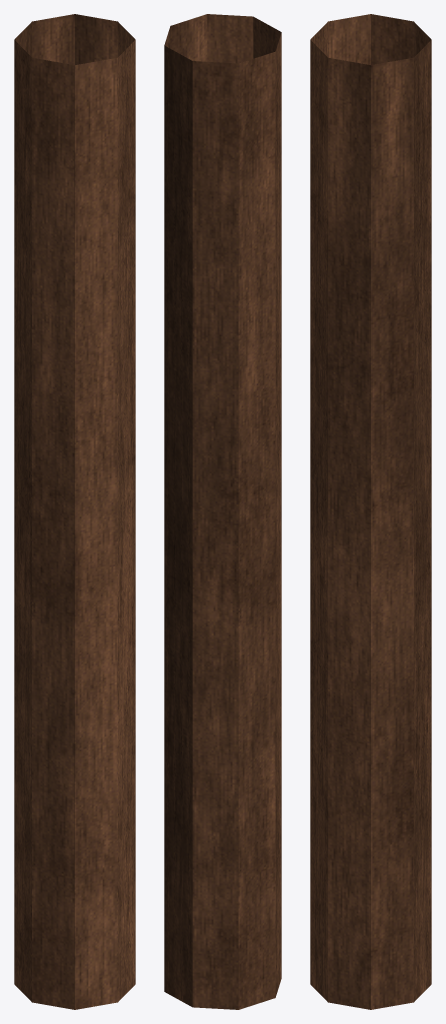
The model's file is pillarShort.fbx.
The picture shows the model from 3 angles, left to right: view 1: azimuth 90°, elevation 25°; view 2: azimuth 150°, elevation 25°; view 3: azimuth 270°, elevation 25°; orthographic projection.
Visible parts, largest first — view 1: pillarShort; view 2: pillarShort; view 3: pillarShort.
Part boxes in pixels (<box>): pillarShort: <box>14,14,135,1009</box>; pillarShort: <box>164,14,281,1009</box>; pillarShort: <box>310,14,431,1009</box>.
Bounding box in the file's own units: 37.77 × 325 × 37.77.
